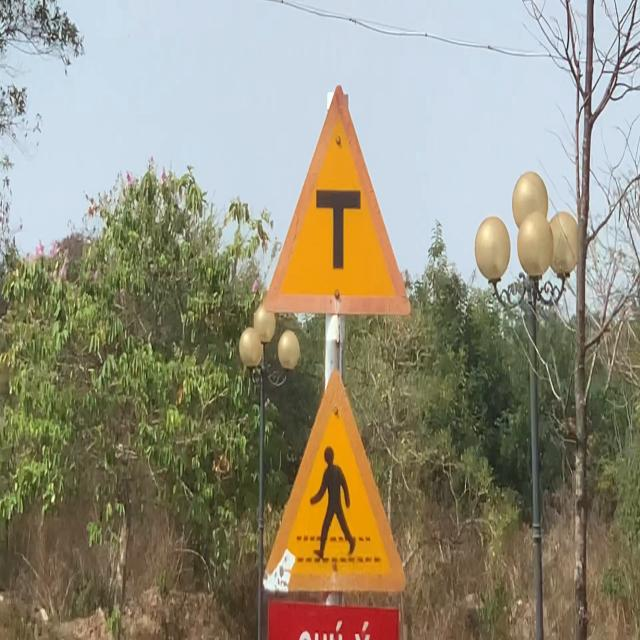Duong giao nhau: (257, 74, 416, 328)
Nguoi di bo cat ngang: (259, 360, 411, 602)
